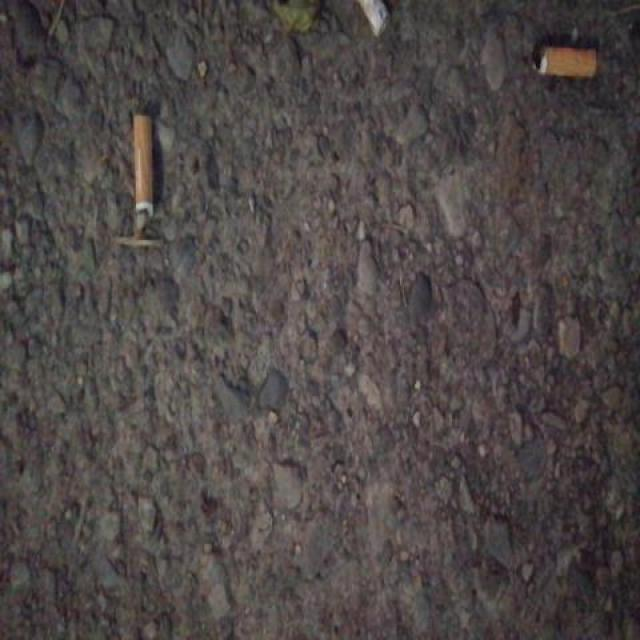non-organic waste: (523, 35, 601, 90), (128, 109, 160, 238)
